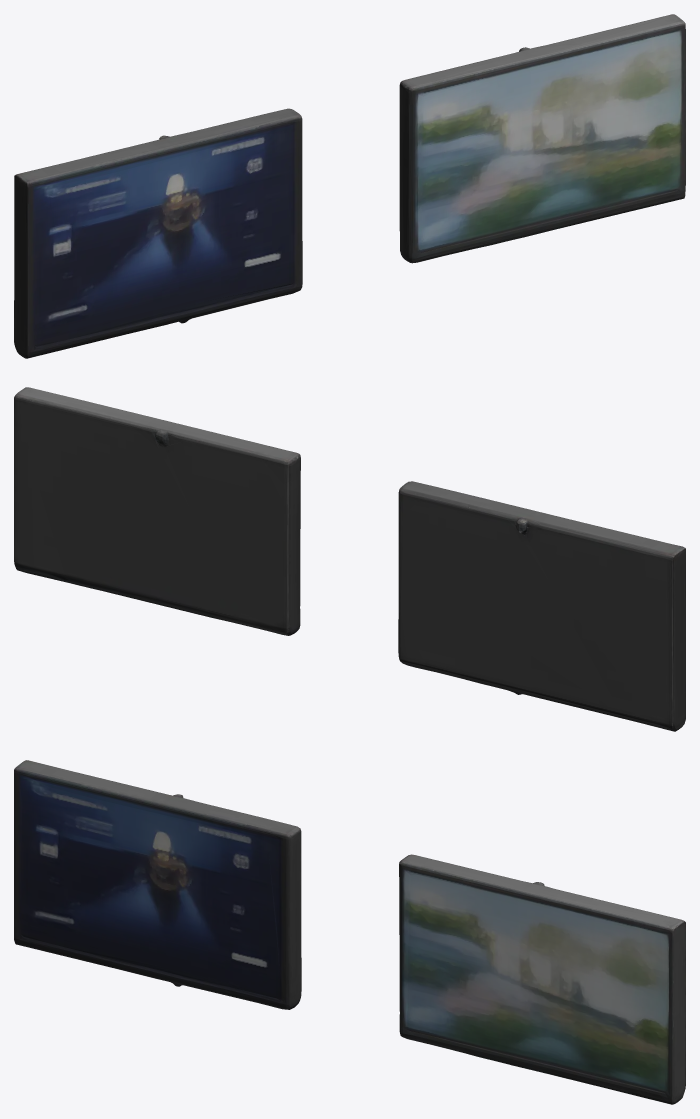
Rendered from red_t_shirt_on_hanger.glb.
The picture shows the model from 3 angles, top to bottom: view 1: azimuth 30°, elevation 25°; view 2: azimuth 150°, elevation 25°; view 3: azimuth 330°, elevation 25°; orthographic projection.
Parts seen in each view (by area): view 1: geometry_0; view 2: geometry_0; view 3: geometry_0.
Boxes of the visible parts, <box> form: geometry_0: <box>14,14,685,358</box>; geometry_0: <box>14,387,685,731</box>; geometry_0: <box>14,760,685,1104</box>.
Bounding box in the file's own units: 1 × 0.2647 × 0.0454.
Materials: 1 (1 with a texture image).
